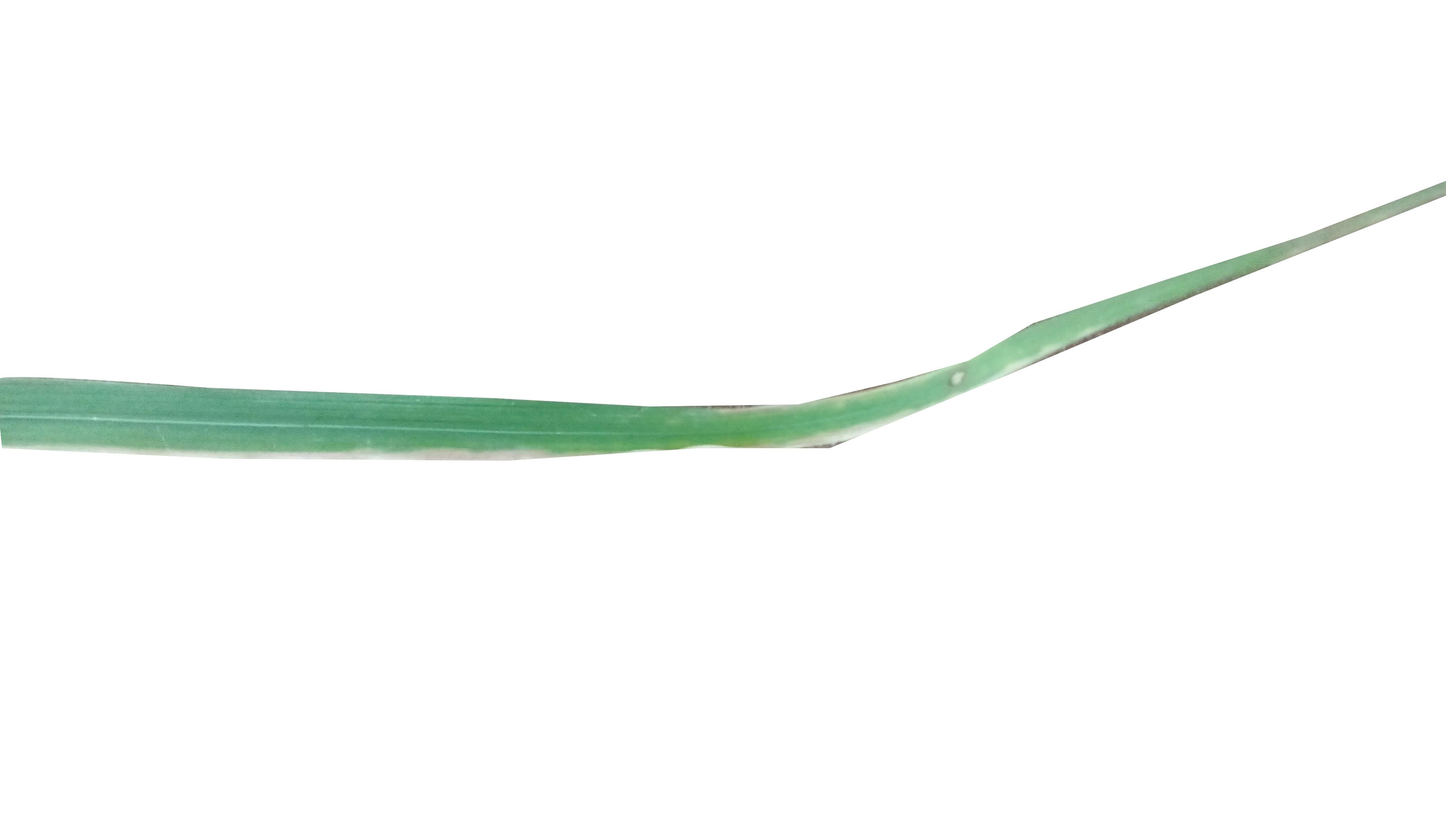Blight: (304, 441, 553, 467)
